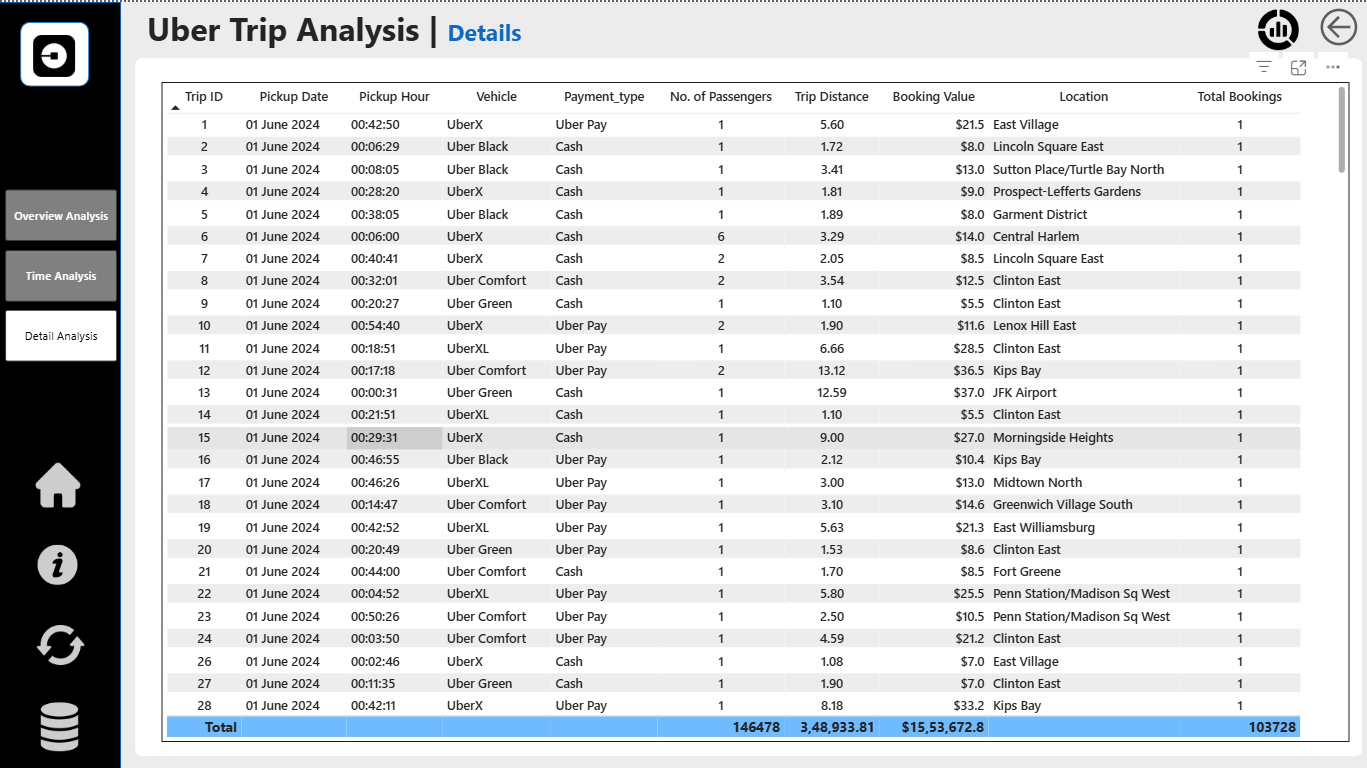

What the dashboard file says about the page in this screenshot:
{"tool":"powerbi","page":{"name":"Detail Analysis","canvas":[1600,900],"ordinal":2},"visuals":[{"type":"shape","box":[25,23.3,80,75],"z":0,"group":"g1"},{"type":"shape","box":[158.3,65,1426.7,811.7],"z":0},{"type":"shape","box":[0,0,141.7,900],"z":1000},{"type":"image","box":[35,31.6,58.3,61.7],"z":1000,"group":"g1"},{"type":"textbox","box":[167.6,0,619.1,94.1],"z":2000},{"type":"tableEx","fields":{"Values":["Trip Details.Trip ID","Trip Details.Pickup Date","Trip Details.Pickup Hour(HH:MM:SS)","Trip Details.Vehicle","Trip Details.Payment_type","Sum(Trip Details.passenger_count)","Trip Details.Total Trip Distance Measure","Trip Details.Total Booking Value","Location Table.Location","Trip Details.Total Bookings"]},"box":[188.3,93.3,1381.7,766.7],"z":3000},{"type":"actionButton","box":[1530,0,55,58.3],"z":4000},{"type":"image","box":[1460,0,56.7,65],"z":5000},{"type":"pageNavigator","box":[6.7,218.3,130,200],"z":6000},{"type":"group","id":"g1","title":"Group 1","box":[25,23.3,80,75],"z":7000},{"type":"image","box":[35.7,809.9,68.3,66.7],"z":9000},{"type":"image","box":[37.2,526,62.1,71.4],"z":10000},{"type":"image","box":[38.8,626.9,57.4,55.9],"z":11000},{"type":"image","box":[38.8,713.7,65.2,68.3],"z":12000}]}

Visuals, with their boxes on the page's 1600x900 design canvas (x1, y1, x2, y2). These are canvas units, not pixel positions in the 1367x768 screenshot, which may show the page scaled, cropped or inside an application window:
shape: left=25, top=23, right=105, bottom=98
shape: left=158, top=65, right=1585, bottom=877
shape: left=0, top=0, right=142, bottom=900
image: left=35, top=32, right=93, bottom=93
textbox: left=168, top=0, right=787, bottom=94
tableEx - Trip Details.Trip ID x Trip Details.Pickup Date: left=188, top=93, right=1570, bottom=860
actionButton: left=1530, top=0, right=1585, bottom=58
image: left=1460, top=0, right=1517, bottom=65
pageNavigator: left=7, top=218, right=137, bottom=418
"Group 1" group: left=25, top=23, right=105, bottom=98
image: left=36, top=810, right=104, bottom=877
image: left=37, top=526, right=99, bottom=597
image: left=39, top=627, right=96, bottom=683
image: left=39, top=714, right=104, bottom=782
